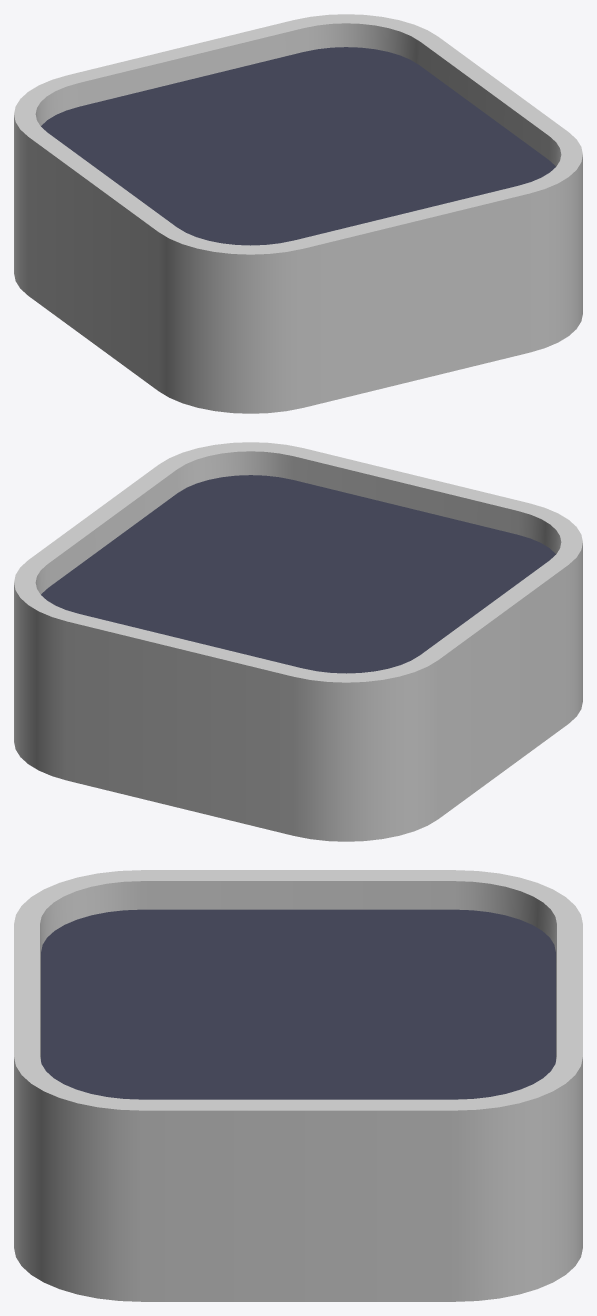
File: slot.fbx
The picture shows the model from 3 angles, top to bottom: view 1: azimuth 30°, elevation 25°; view 2: azimuth 150°, elevation 25°; view 3: azimuth 270°, elevation 25°; orthographic projection. The views are drawn at different scales.
Parts seen in each view (by area): view 1: Slot; view 2: Slot; view 3: Slot.
Boxes of the visible parts, box(x1,y1,x2,y2) form: Slot: box(14, 14, 582, 413); Slot: box(14, 442, 582, 841); Slot: box(14, 870, 582, 1301).
Size of the model in its own units: 200 by 74.18 by 200.
